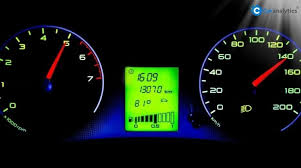Digital_Meter: (127, 82, 177, 97)
